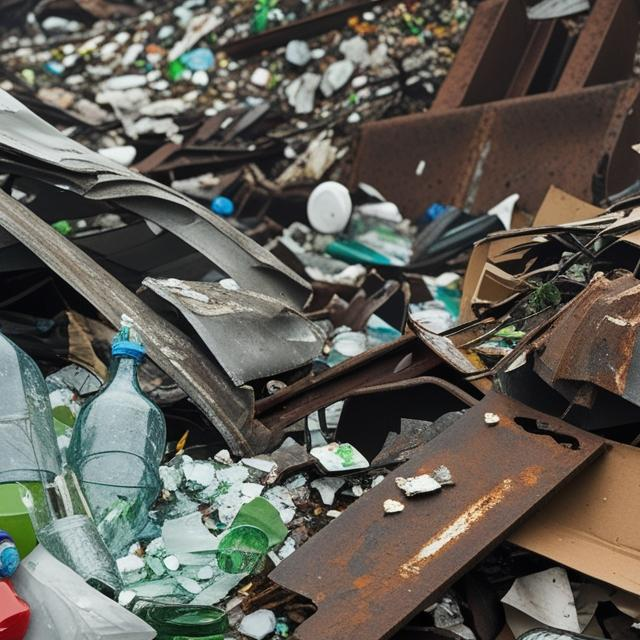plastic: (86, 336, 153, 530), (0, 308, 49, 498)
